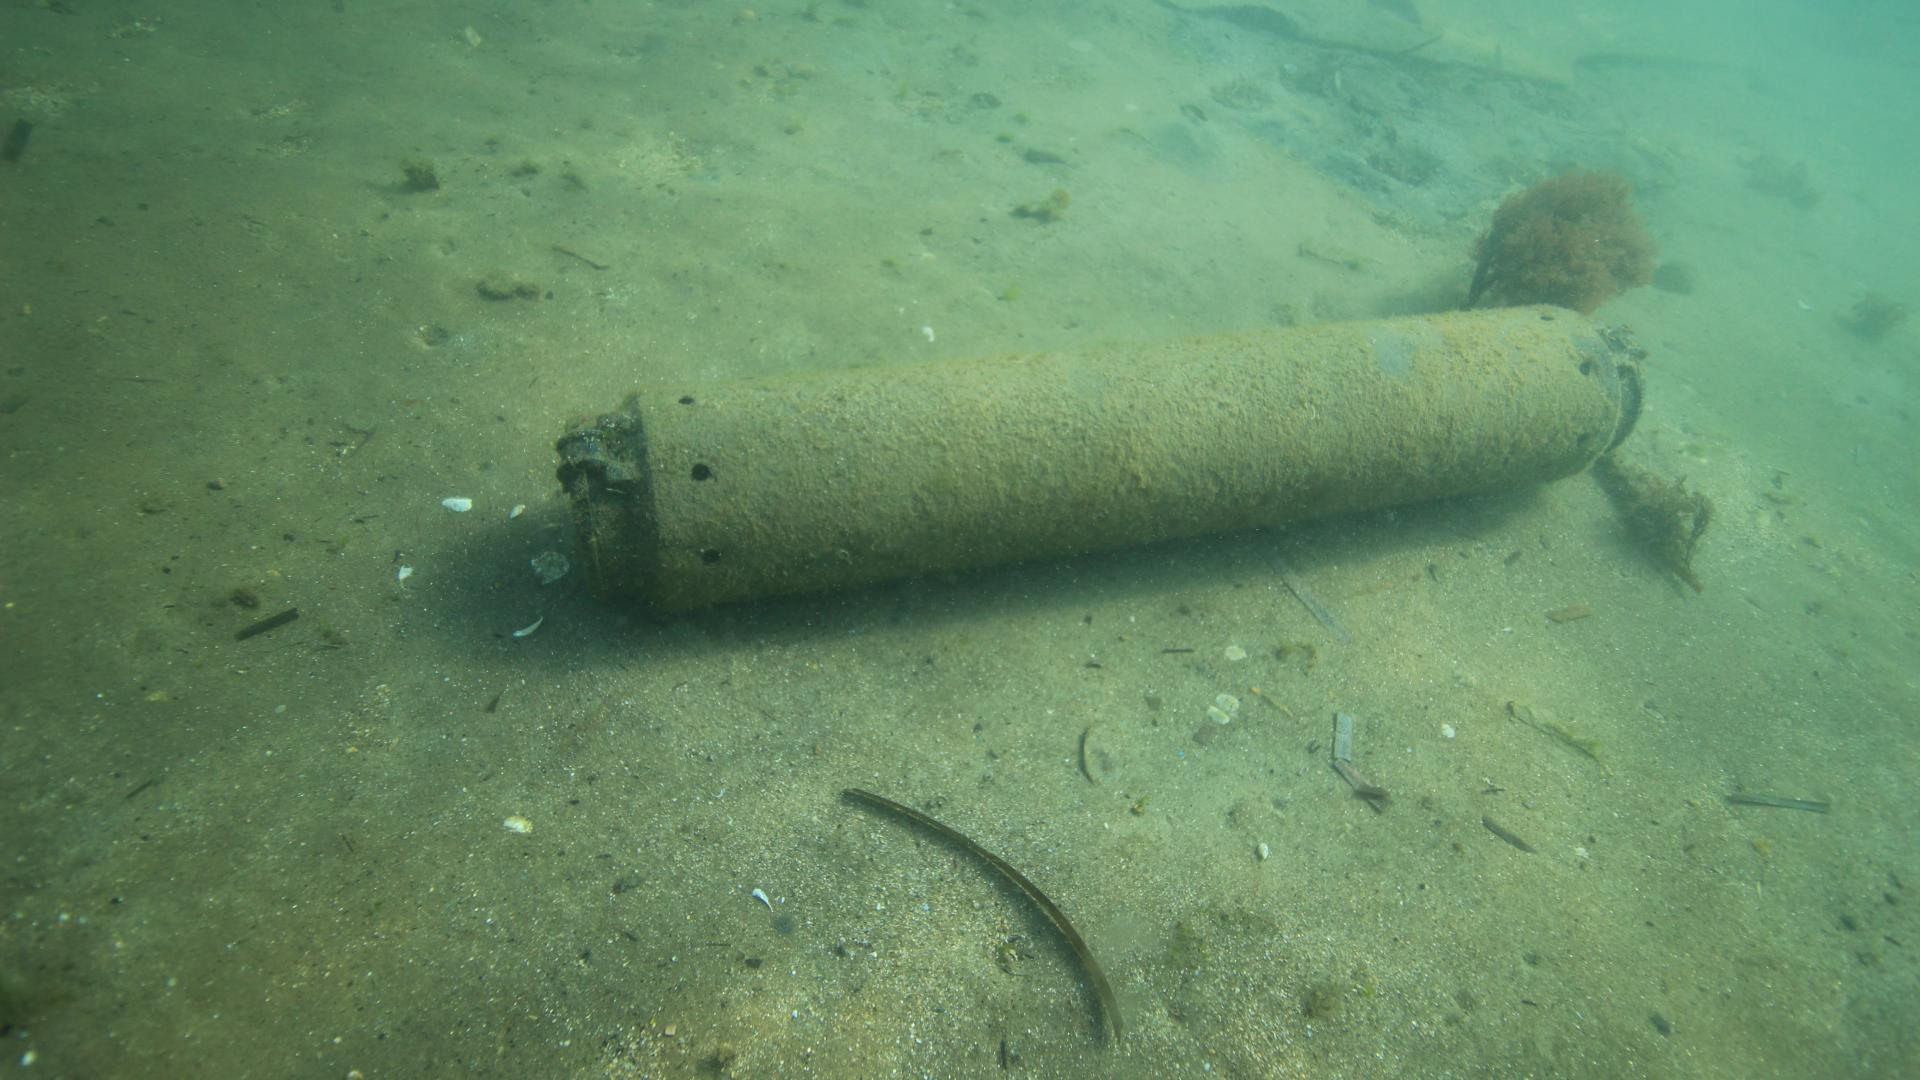eel fish trap: (563, 295, 1644, 615)
